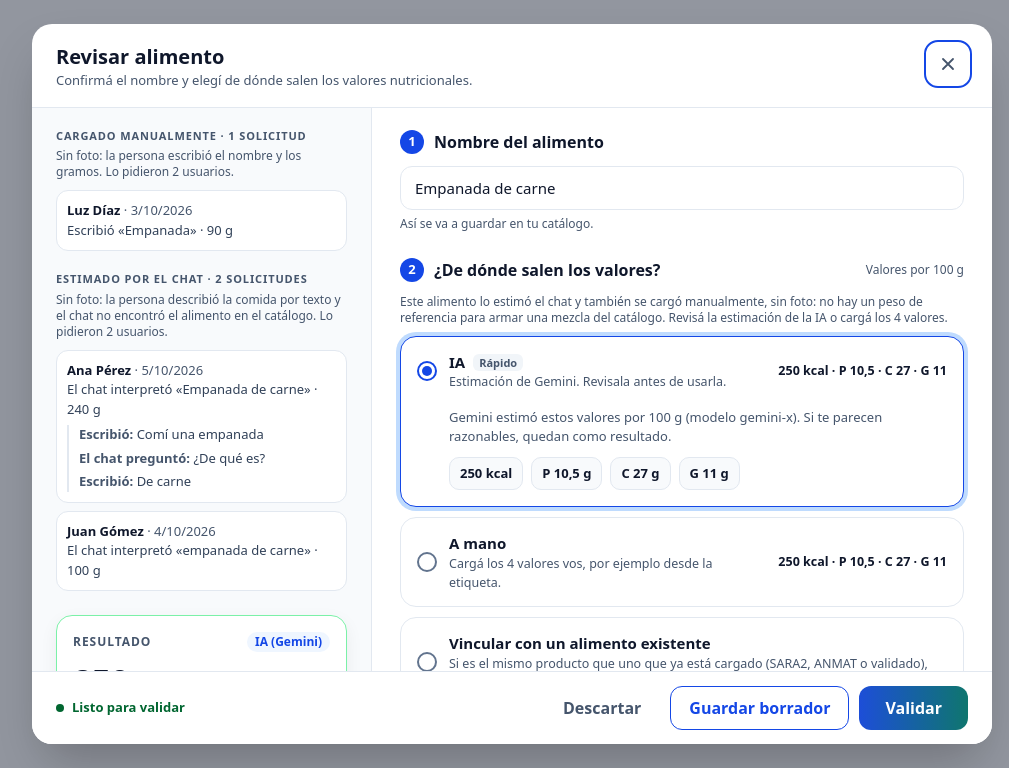
Scenario: /validacion — entradas mixtas con chat › manual + chat sin foto: muestra ambas secciones, la frase del chat con «también se cargó manualmente» y cuenta todos los ítems
Check: the field named "Nombre" is shown, box top-left (400, 166), bottom-right (964, 210)
Check: the element "Cargado manualmente" is shown, box top-left (56, 128), bottom-right (347, 251)
What coordinates should you click on to do the following:
click the button "Validar"
I would click on:
 (914, 708)
Its box is top-left (859, 686), bottom-right (968, 730).
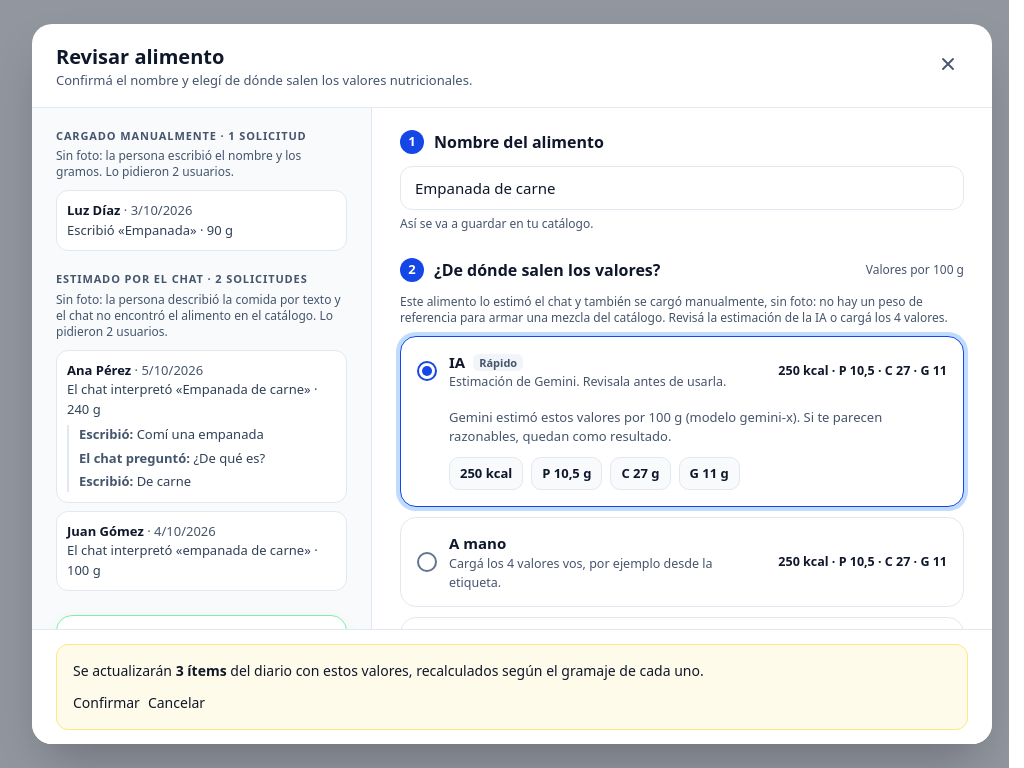
Check: the dialog shows "Se actualizarán 3 ítems del diario", box top-left (56, 644), bottom-right (968, 730)
